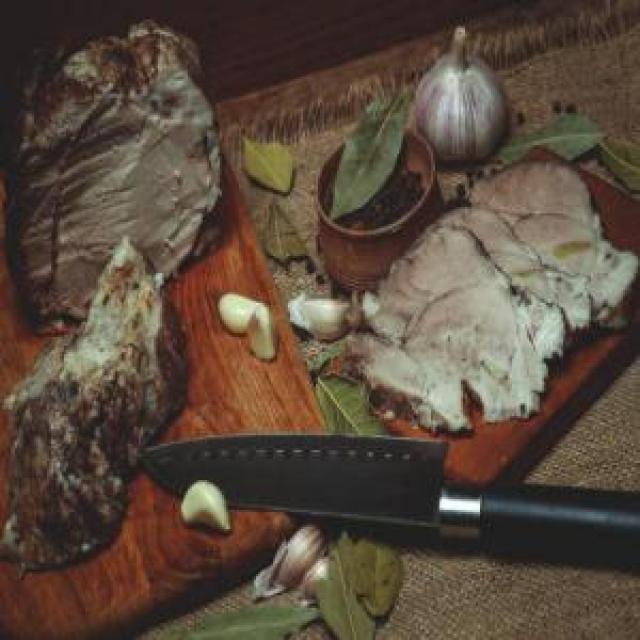knife: (141, 431, 638, 576)
